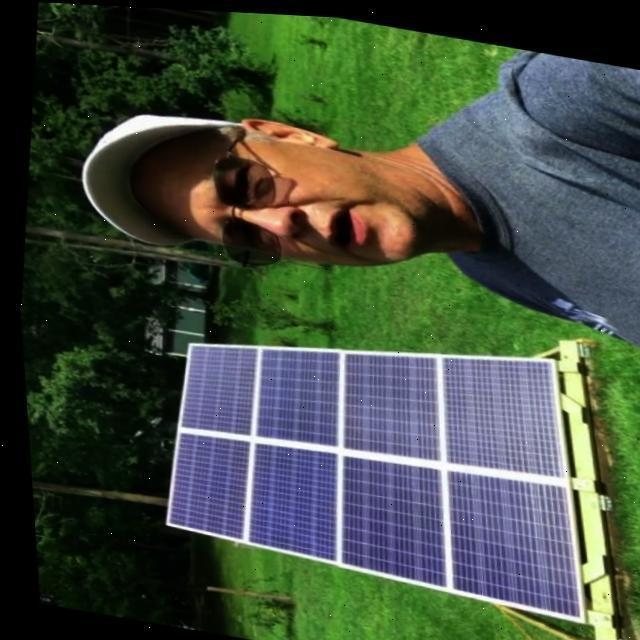Normal Solar Panel: (144, 292, 603, 619)
